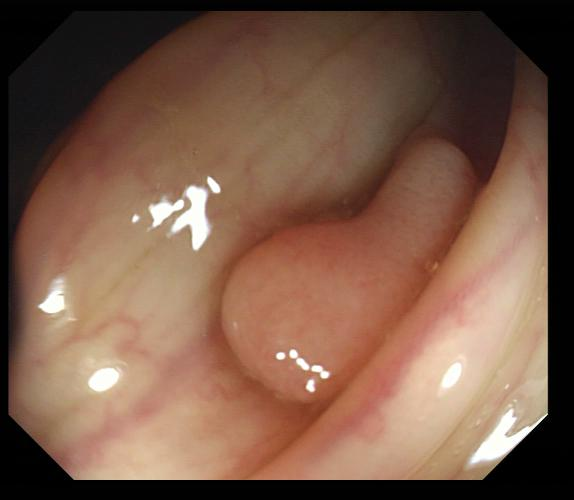polyp: (211, 129, 480, 408)
